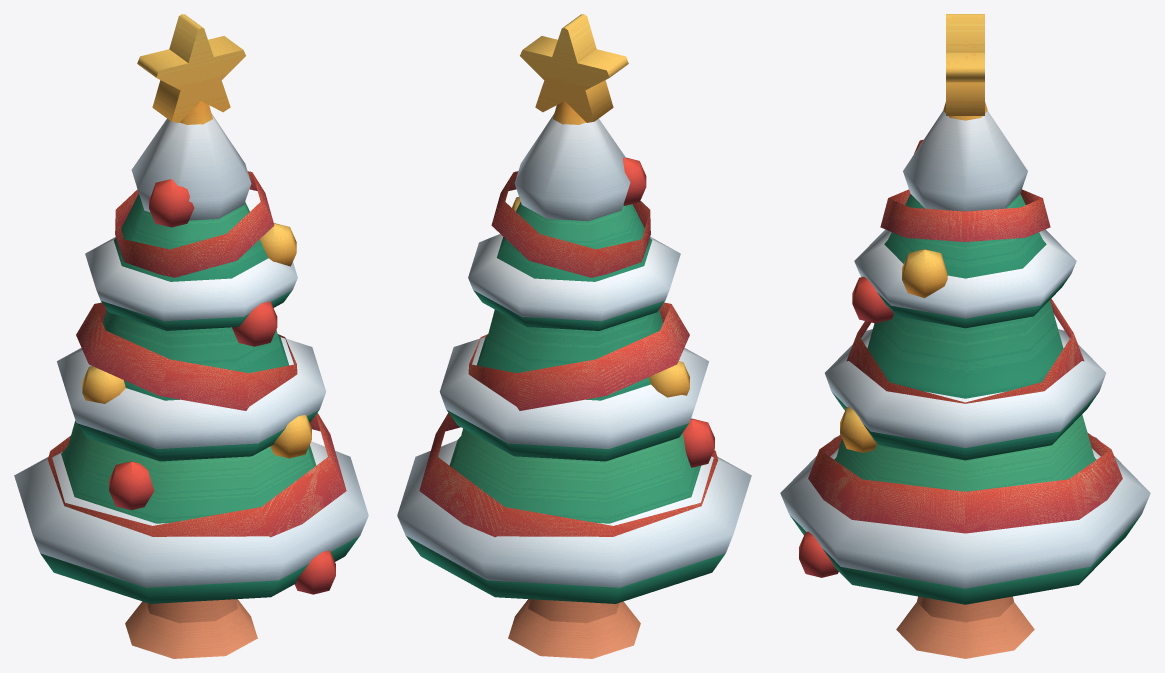
File: tree-decorated-snow.glb
The picture shows the model from 3 angles, left to right: view 1: azimuth 30°, elevation 25°; view 2: azimuth 150°, elevation 25°; view 3: azimuth 270°, elevation 25°; orthographic projection.
Visible parts, largest first — view 1: tree-decorated-snow; view 2: tree-decorated-snow; view 3: tree-decorated-snow.
Boxes of the visible parts, <box> form: tree-decorated-snow: <box>14,14,368,658</box>; tree-decorated-snow: <box>397,14,751,658</box>; tree-decorated-snow: <box>780,14,1150,658</box>.
Size of the model in its own units: 3.75 by 6.87 by 3.75.
1 material, 1 textured.
